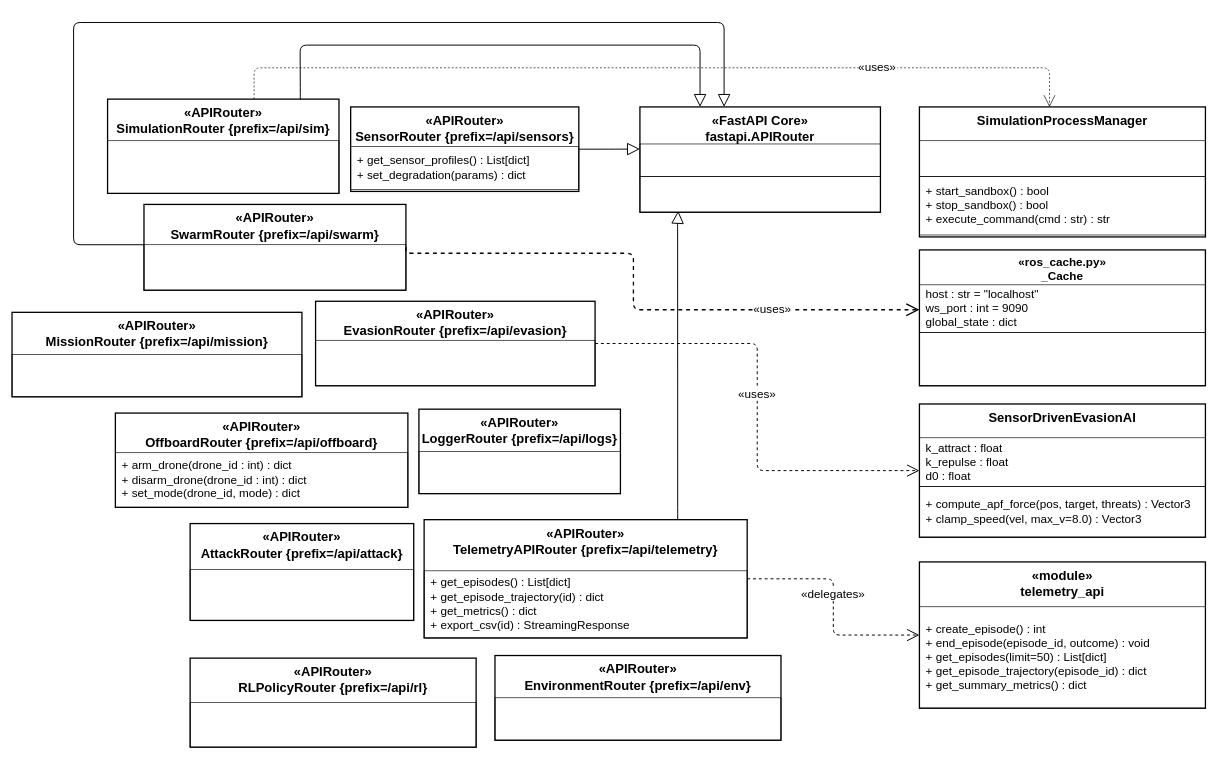
The diagram is 1217 pixels wide and 759 high, and some of its shapes have lost their labels. The shapes that lost their labels are listed below. From the top down, each one's centre as x and y in pixels, then its label:
[223,166]: + start_sim() : dict + stop_sim() : dict + get_status() : dict
[759,159]: + prefix : str + tags : List[str]
[1062,158]: compose_process : subprocess.Popen container_name : str = "intelliswarm"
[759,194]: + get(path, endpoint) + post(path, endpoint)
[274,267]: + set_base_positions(h_a, h_d) : dict + start_duel() : dict
[156,375]: + start_attack_defend(atk, def) : dict + abort_mission() : dict
[455,363]: + compute_setpoint(pos, threat) : Vector3 + set_evasion_mode(mode) : dict
[1062,359]: + connect() : void + get_state() : dict + wait_for_ready() : bool
[519,472]: + record_telemetry(data : dict) : dict + get_active_logs() : List[dict]
[301,594]: + configure_attack(type, intensity) : dict + clear_attacks() : dict
[332,724]: + get_rl_action(state) : dict + get_policy_status() : dict
[637,718]: + set_weather(wind, turbulence) : dict + get_environment() : dict
